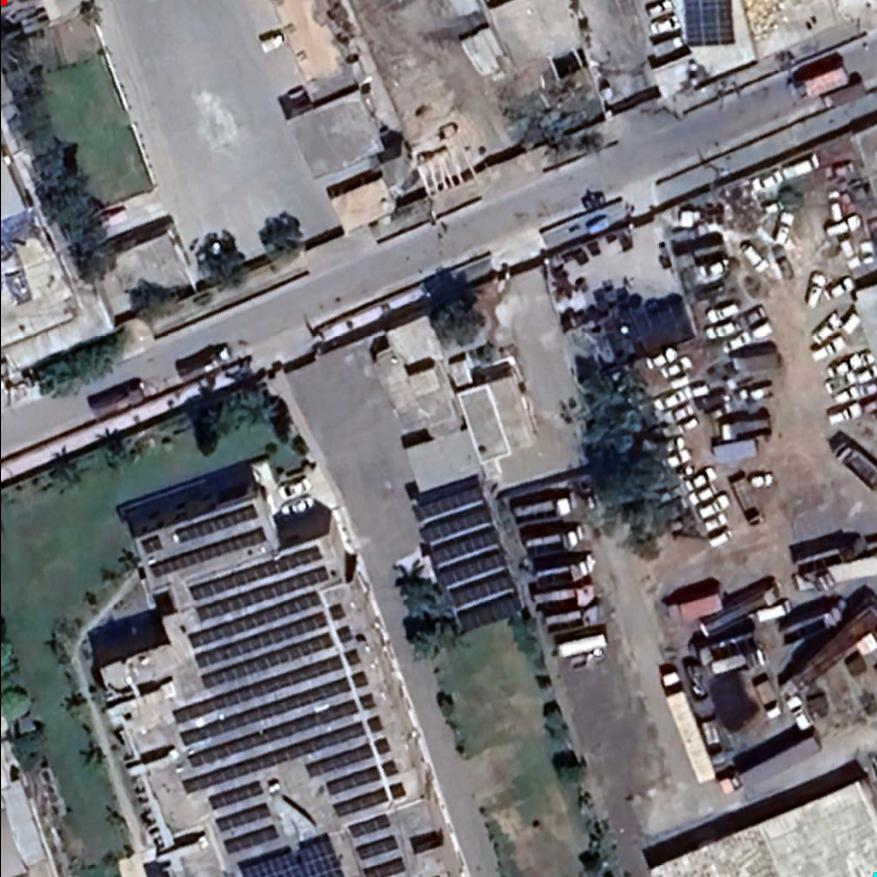Solarpanel: (153, 542, 445, 876), (397, 476, 528, 640), (142, 522, 270, 586), (172, 496, 266, 550), (676, 0, 737, 50), (134, 529, 168, 555)
